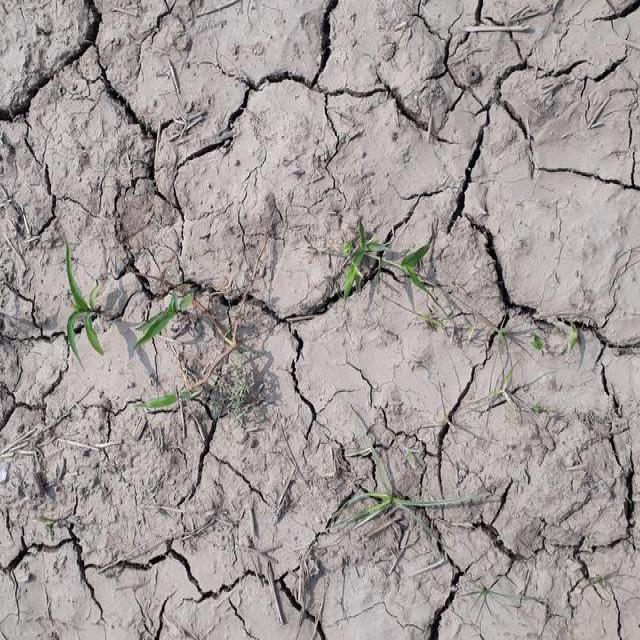weed: (48, 260, 206, 354), (345, 218, 435, 294)
